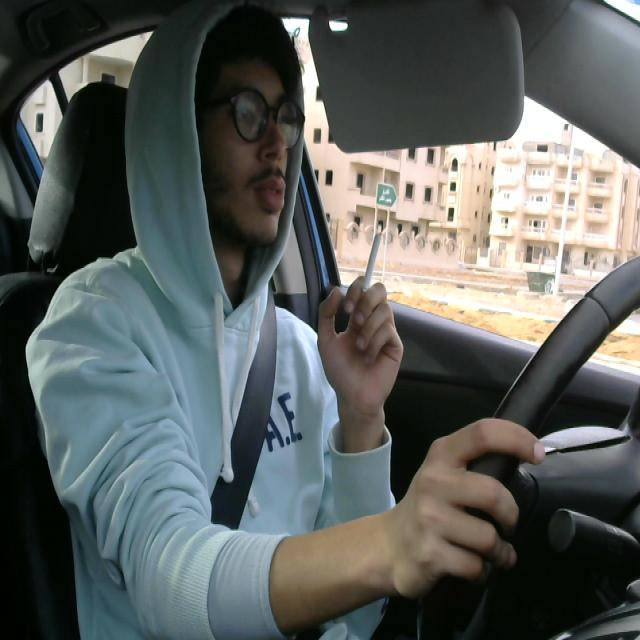smoking: (356, 227, 389, 325)
